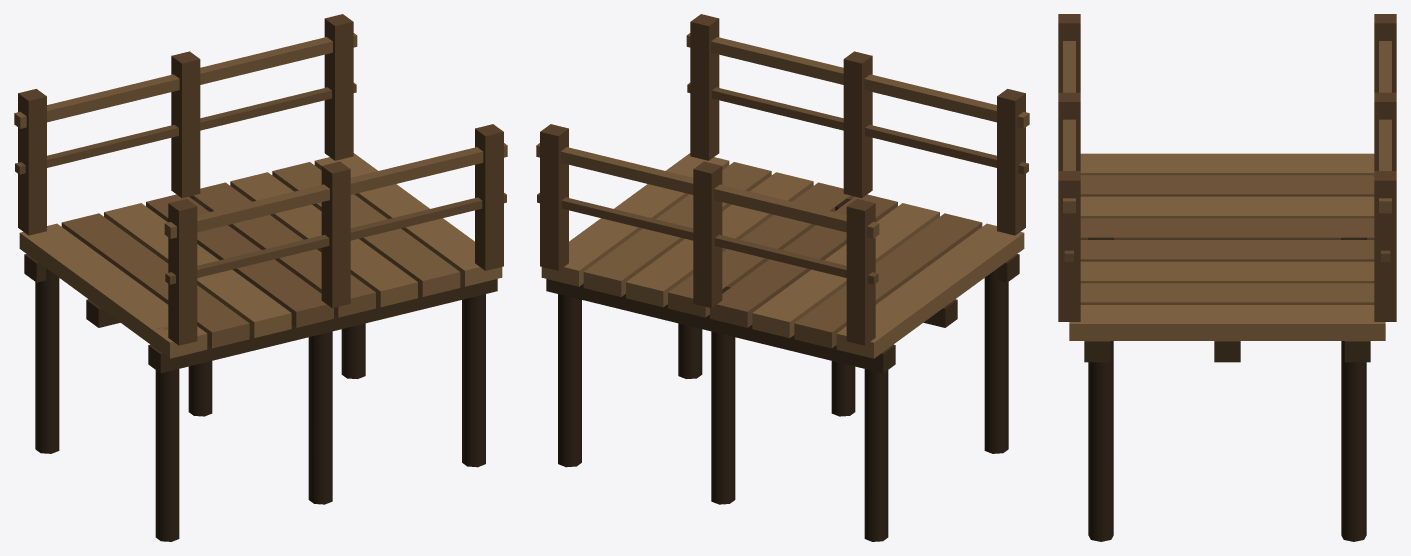
The model's file is bridge-stub.glb.
3 renders of one model, left to right at view 1: azimuth 30°, elevation 25°; view 2: azimuth 150°, elevation 25°; view 3: azimuth 270°, elevation 25°, orthographic. The views are drawn at different scales.
Size of the model in its own units: 2.2 by 2.14 by 1.82.
